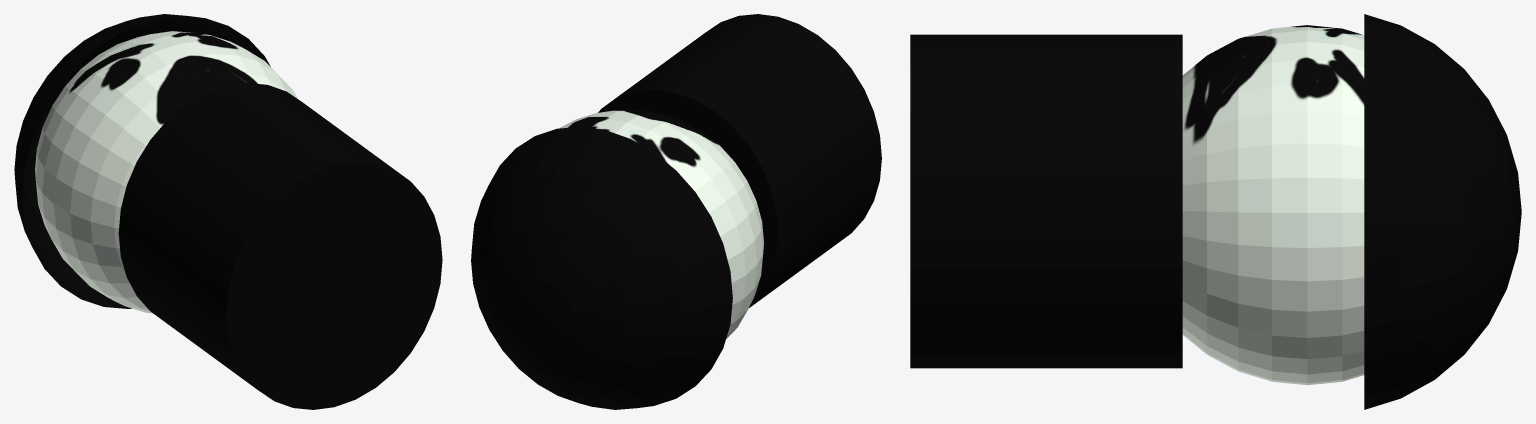
File: robberBigRotatedFinal.fbx
The picture shows the model from 3 angles, left to right: view 1: azimuth 30°, elevation 25°; view 2: azimuth 150°, elevation 25°; view 3: azimuth 270°, elevation 25°; orthographic projection. The views are drawn at different scales.
Parts seen in each view (by area): view 1: Sphere.001; view 2: Sphere.001; view 3: Sphere.001.
Boxes of the visible parts, x1,y1,x2,y2 form: Sphere.001: [14, 14, 442, 409]; Sphere.001: [471, 14, 881, 409]; Sphere.001: [910, 14, 1521, 409].
Size of the model in its own units: 0.429 by 0.4419 by 0.6787.
Materials: 3 (1 with a texture image).
